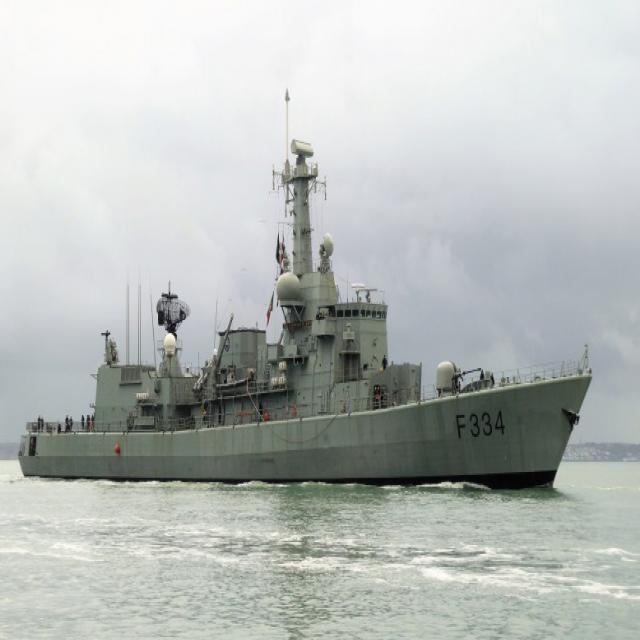Fragata: (21, 131, 596, 499)
